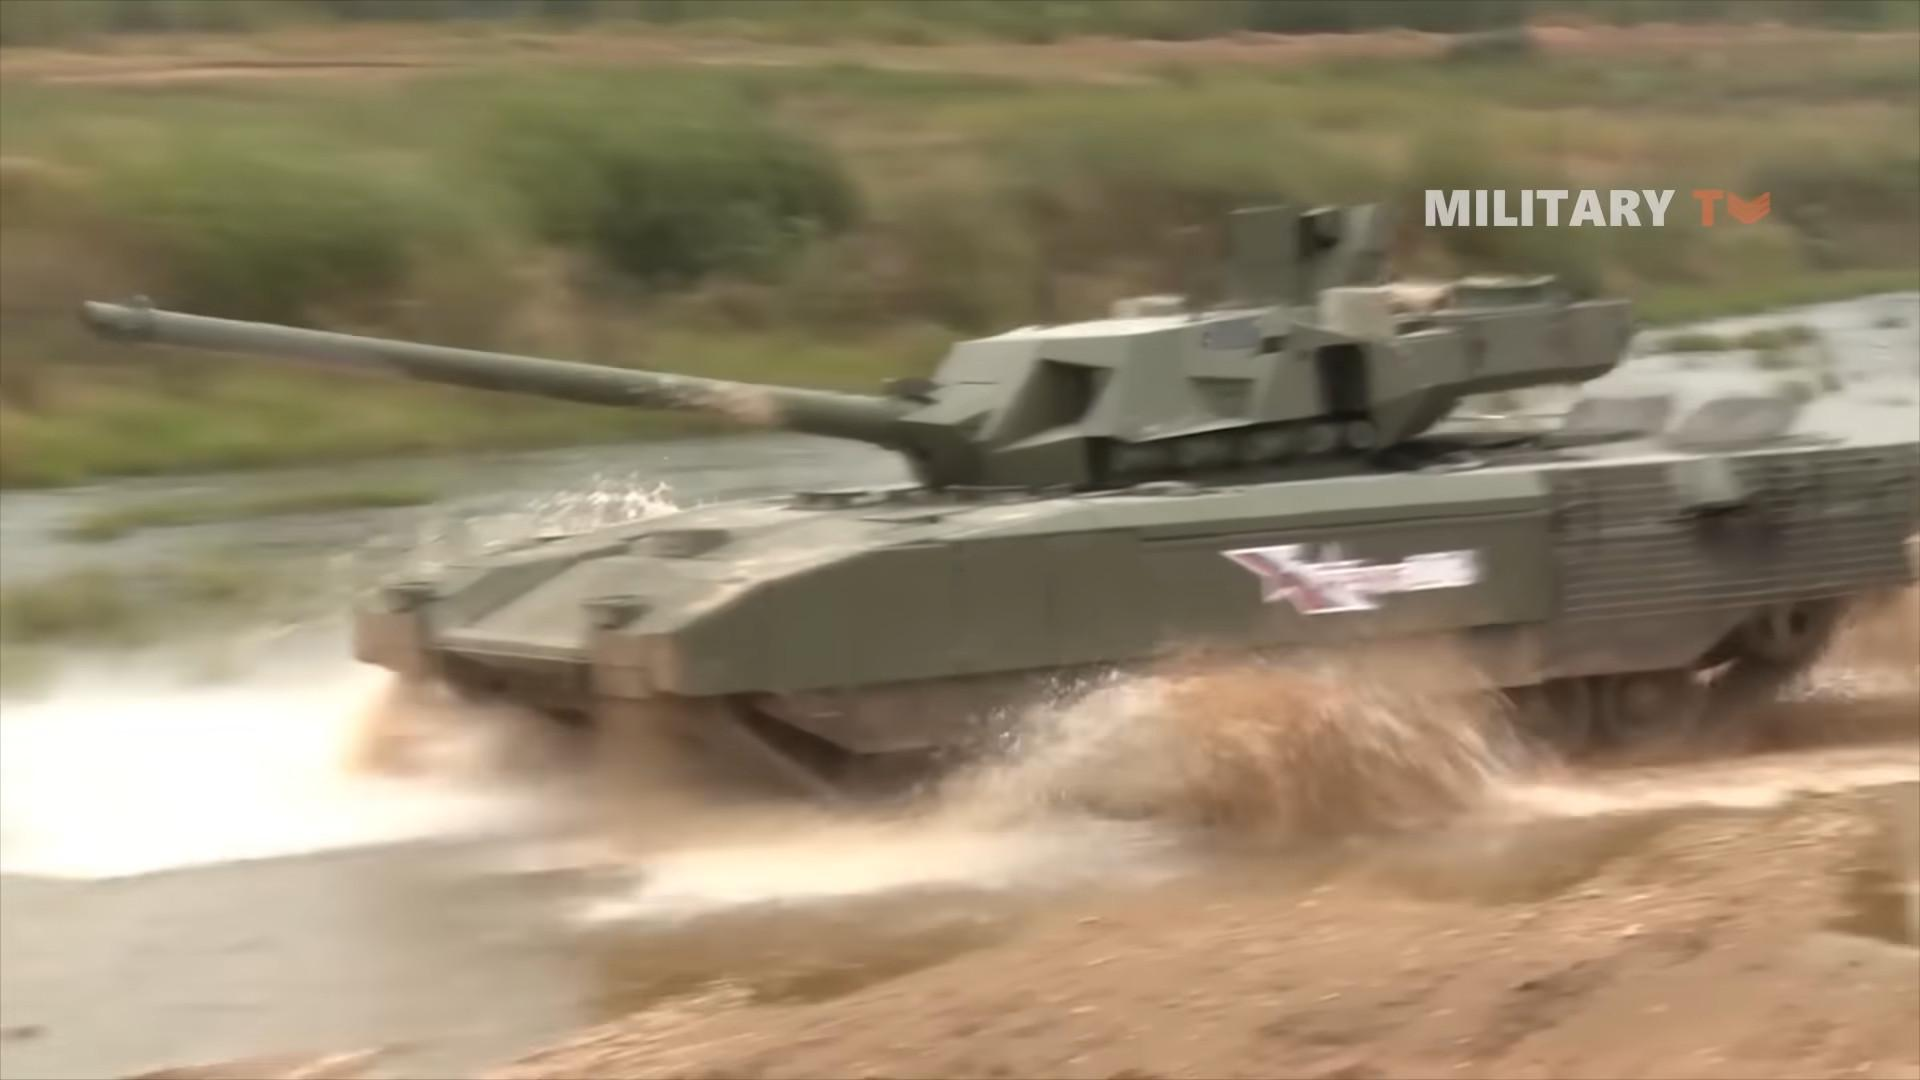tank: (88, 206, 1919, 820)
